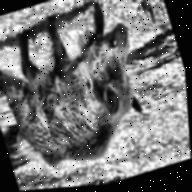boar: (0, 0, 174, 181)
